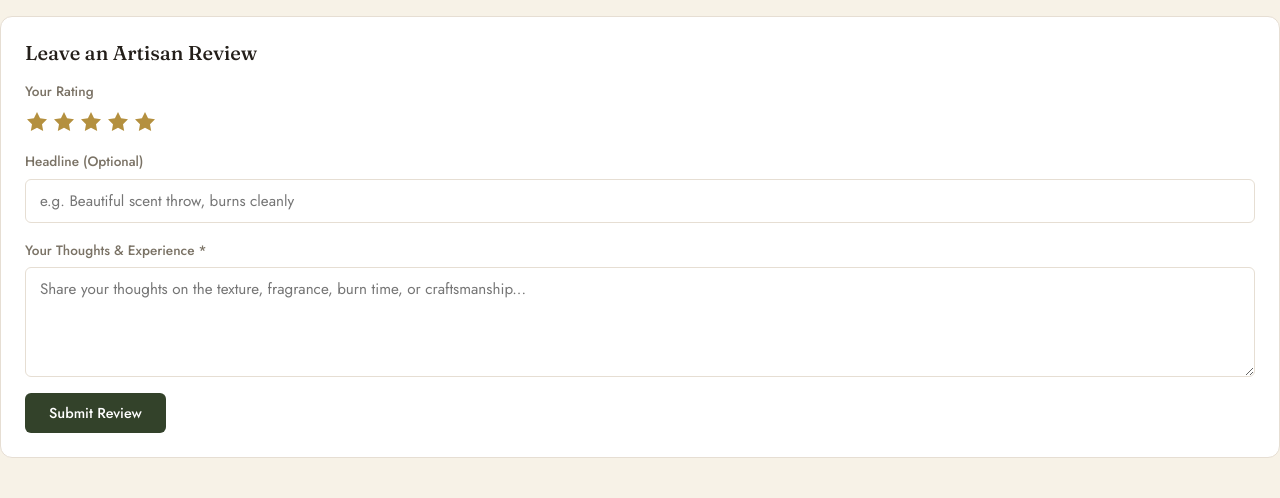
Scenario: ReviewForm Component › shows validation error when submitting with less than 5 characters
Replace the text in the text box labelled "Your Thoughts & Experience *" with "Good" at (640, 322), box [25,267,1255,377]
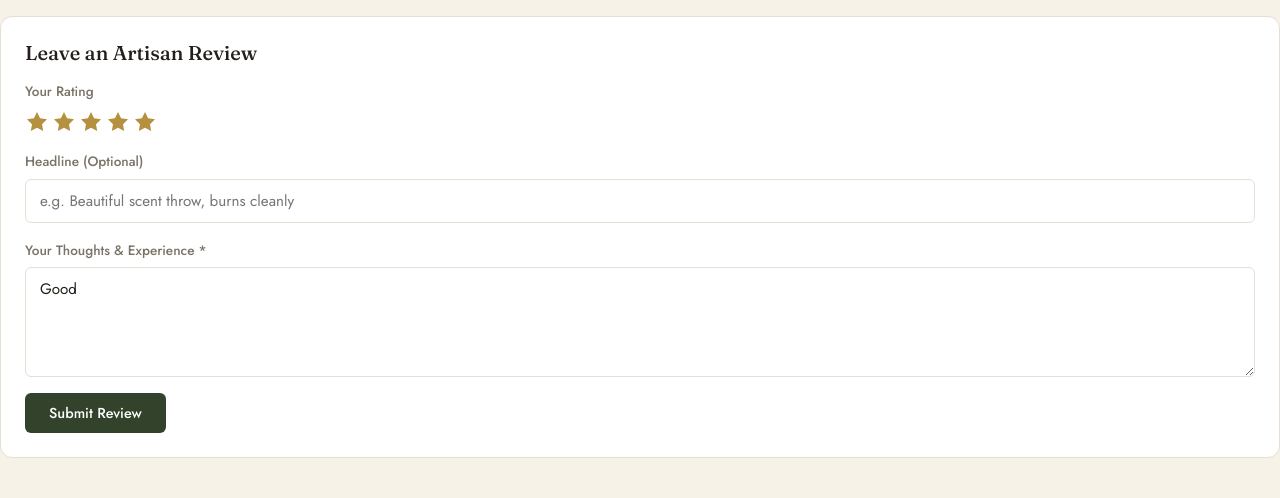
Click the button "Submit Review" at (95, 413), box [25,393,166,433]
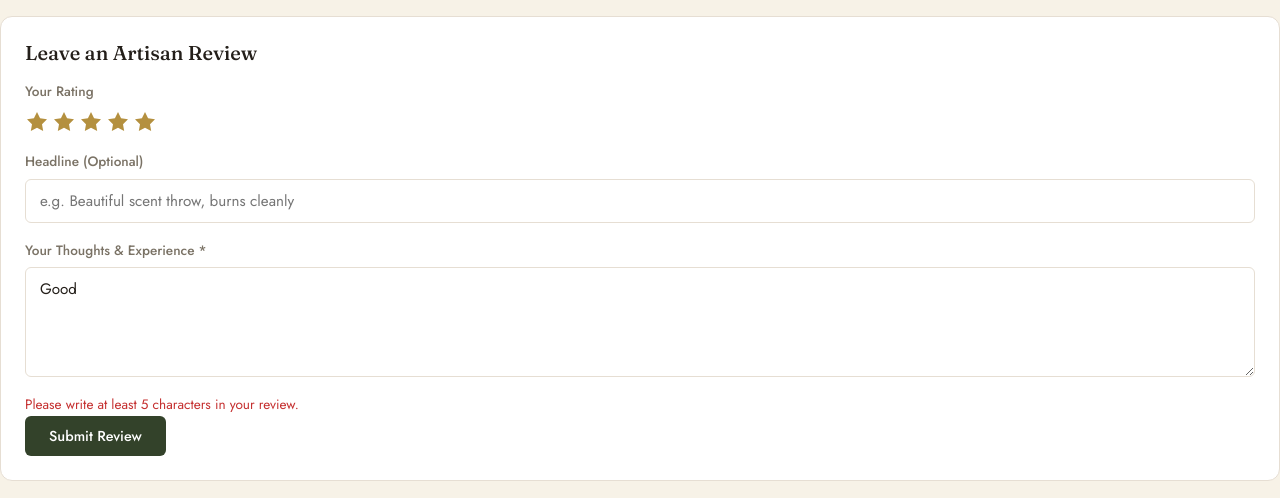
Result: the text "Please write at least 5 characters in your review." is shown at [25,394,299,414]
